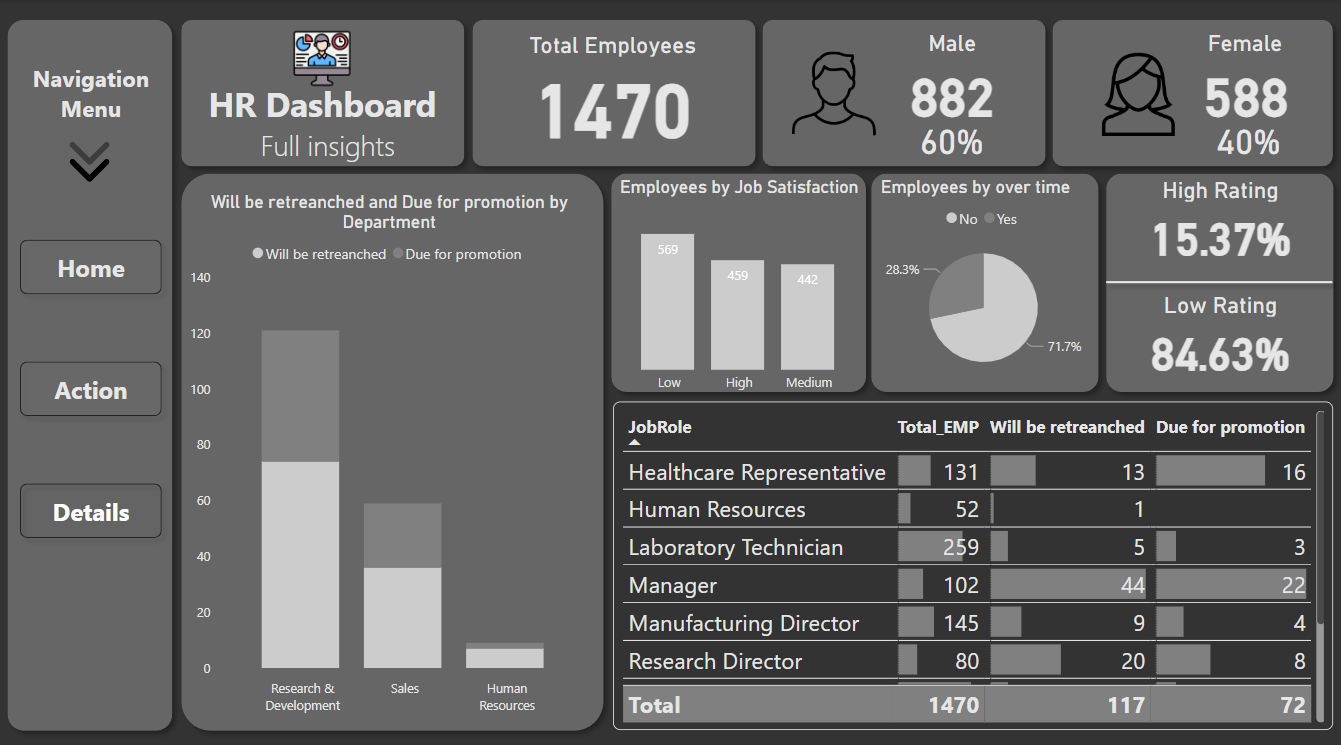

Layout of this report page (visuals, bound fields, positions):
{"tool":"powerbi","page":{"name":"Details","canvas":[1280,720],"ordinal":2},"visuals":[{"type":"shape","box":[0,10.7,174.9,695],"z":0},{"type":"shape","box":[165,11.2,287.5,157.5],"z":1000},{"type":"shape","box":[442.5,11.2,287.5,157.5],"z":2000},{"type":"shape","box":[718.8,11.2,287.5,157.5],"z":3000},{"type":"shape","box":[995,11.2,285,157.5],"z":4000},{"type":"textbox","box":[126.2,31.2,338.8,137.5],"z":5000},{"type":"image","box":[253.8,22.5,110,67.5],"z":6000},{"type":"cardVisual","title":"Total Employees","fields":{"Data":["All_Measure.Total_EMP"]},"box":[452.5,31.2,266.2,126.2],"z":7000},{"type":"cardVisual","title":"Male","fields":{"Data":["All_Measure.Male"]},"box":[810,30,196.2,93.8],"z":8000},{"type":"cardVisual","fields":{"Data":["All_Measure.% Male"]},"box":[850,100,116.2,57.5],"z":9000},{"type":"image","box":[745,43.8,101.2,92.5],"z":10000},{"type":"cardVisual","title":"Female","fields":{"Data":["All_Measure.Female"]},"box":[1095,30,185,93.8],"z":11000},{"type":"cardVisual","fields":{"Data":["All_Measure.% Female"]},"box":[1119.9,100,141.6,57.1],"z":12000},{"type":"image","box":[1041.2,43.8,88.8,93.8],"z":13000},{"type":"shape","box":[165.4,157.1,420.1,548.6],"z":14000},{"type":"columnChart","fields":{"Category":["HR Analytics Data.Department"],"Y":["All_Measure.Will be retreanched","All_Measure.Due for promotion"]},"box":[177.3,183.3,390.3,504.6],"z":15000},{"type":"shape","box":[574.8,157.1,260.6,226.1],"z":16000},{"type":"shape","box":[822.3,157.1,234.4,226.1],"z":17000},{"type":"shape","box":[1046.1,157.1,234.4,226.1],"z":18000},{"type":"pieChart","title":"Employees by over time","fields":{"Category":["HR Analytics Data.OverTime"],"Y":["All_Measure.Total_EMP"]},"box":[835.4,169,205.9,201.1],"z":19000},{"type":"cardVisual","title":"High Rating","fields":{"Data":["All_Measure.% High emp rating"]},"box":[1056.8,169,214.2,101.2],"z":20000},{"type":"cardVisual","title":"Low Rating","fields":{"Data":["All_Measure.% Low emp rating"]},"box":[1056.8,278.5,214.2,91.6],"z":21000},{"type":"shape","box":[1046.1,251.1,233.3,36.9],"z":22000},{"type":"clusteredColumnChart","title":"Employees by Job Satisfaction","fields":{"Y":["All_Measure.Total_EMP"],"Category":["HR Analytics Data.Job Satisfaction"]},"box":[580.8,169,249.9,214.2],"z":23000},{"type":"tableEx","fields":{"Values":["HR Analytics Data.JobRole","All_Measure.Total_EMP","All_Measure.Will be retreanched","All_Measure.Due for promotion"]},"box":[585.5,383.2,685.5,313],"z":24000},{"type":"pageNavigator","box":[11.9,220.2,153.5,304.7],"z":24001},{"type":"textbox","box":[11.9,55.9,153.5,101.2],"z":24002},{"type":"image","box":[50,115.4,75,78.5],"z":24003}]}

Visuals, with their boxes in screenshot pixels (x1, y1, x2, y2), scaled from the page's 1280x720 canvas onto the 1341x745 screenshot:
shape: {"x1": 0, "y1": 11, "x2": 183, "y2": 730}
shape: {"x1": 173, "y1": 12, "x2": 474, "y2": 175}
shape: {"x1": 464, "y1": 12, "x2": 765, "y2": 175}
shape: {"x1": 753, "y1": 12, "x2": 1054, "y2": 175}
shape: {"x1": 1042, "y1": 12, "x2": 1340, "y2": 175}
textbox: {"x1": 132, "y1": 32, "x2": 487, "y2": 175}
image: {"x1": 266, "y1": 23, "x2": 381, "y2": 93}
"Total Employees" cardVisual: {"x1": 474, "y1": 32, "x2": 753, "y2": 163}
"Male" cardVisual: {"x1": 849, "y1": 31, "x2": 1054, "y2": 128}
cardVisual - All_Measure.% Male: {"x1": 891, "y1": 103, "x2": 1012, "y2": 163}
image: {"x1": 781, "y1": 45, "x2": 887, "y2": 141}
"Female" cardVisual: {"x1": 1147, "y1": 31, "x2": 1340, "y2": 128}
cardVisual - All_Measure.% Female: {"x1": 1173, "y1": 103, "x2": 1322, "y2": 163}
image: {"x1": 1091, "y1": 45, "x2": 1184, "y2": 142}
shape: {"x1": 173, "y1": 163, "x2": 613, "y2": 730}
columnChart - HR Analytics Data.Department x All_Measure.Will be retreanched: {"x1": 186, "y1": 190, "x2": 595, "y2": 712}
shape: {"x1": 602, "y1": 163, "x2": 875, "y2": 397}
shape: {"x1": 861, "y1": 163, "x2": 1107, "y2": 397}
shape: {"x1": 1096, "y1": 163, "x2": 1340, "y2": 397}
"Employees by over time" pieChart: {"x1": 875, "y1": 175, "x2": 1091, "y2": 383}
"High Rating" cardVisual: {"x1": 1107, "y1": 175, "x2": 1332, "y2": 280}
"Low Rating" cardVisual: {"x1": 1107, "y1": 288, "x2": 1332, "y2": 383}
shape: {"x1": 1096, "y1": 260, "x2": 1340, "y2": 298}
"Employees by Job Satisfaction" clusteredColumnChart: {"x1": 608, "y1": 175, "x2": 870, "y2": 397}
tableEx - HR Analytics Data.JobRole x All_Measure.Total_EMP: {"x1": 613, "y1": 397, "x2": 1332, "y2": 720}
pageNavigator: {"x1": 12, "y1": 228, "x2": 173, "y2": 543}
textbox: {"x1": 12, "y1": 58, "x2": 173, "y2": 163}
image: {"x1": 52, "y1": 119, "x2": 131, "y2": 201}
